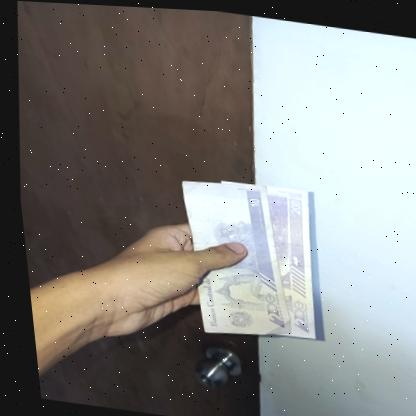ten-back-vef: (164, 172, 297, 342)
two_hundred-back-vef: (245, 181, 321, 339)
